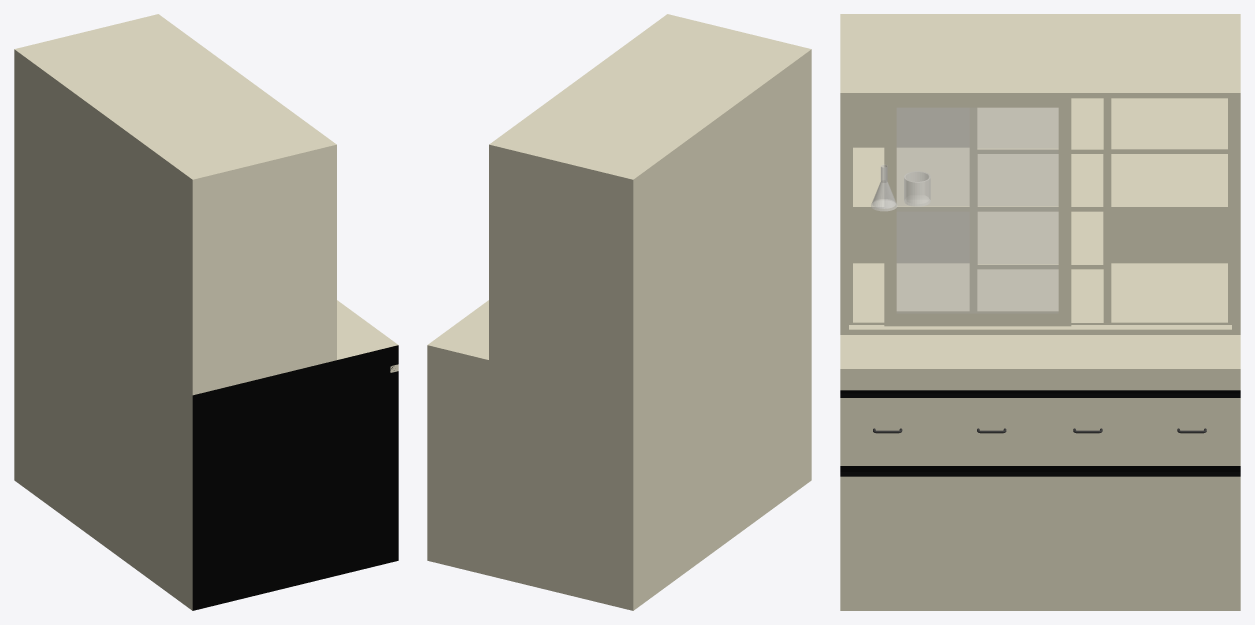
The model's file is 실험용품보관함.glb.
3 views of the same model, side by side, from view 1: azimuth 30°, elevation 25°; view 2: azimuth 150°, elevation 25°; view 3: azimuth 270°, elevation 25° (orthographic). The views are drawn at different scales.
Visible parts, largest first — view 1: Cube.005, Cube; view 2: Cube.005, Cube; view 3: Cube.005, Cube, Cube.006, Cylinder, Cylinder.001.
Boxes of the visible parts, x1,y1,x2,y2 form: Cube.005: (14, 14, 336, 395); Cube: (14, 265, 398, 610); Cube.005: (489, 14, 811, 395); Cube: (427, 265, 811, 610); Cube.005: (840, 14, 1240, 334); Cube: (840, 335, 1240, 610); Cube.006: (884, 98, 1071, 326); Cylinder: (904, 171, 930, 206); Cylinder.001: (871, 165, 897, 210).
Bounding box in the file's own units: 10.25 × 20 × 15.
